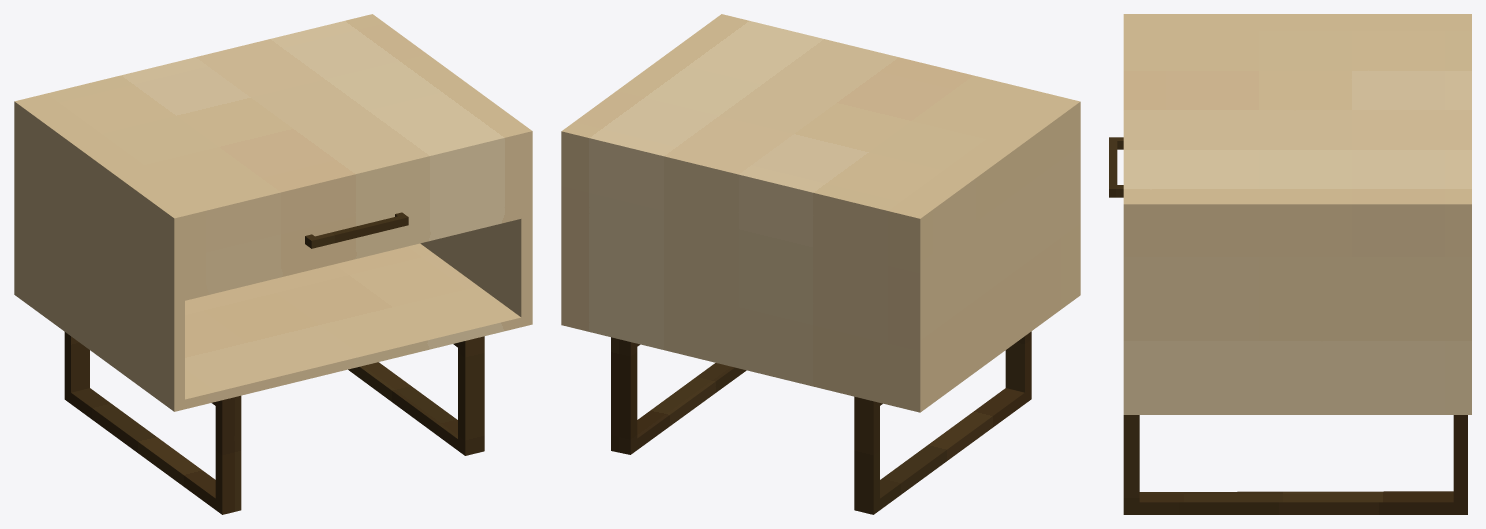
Rendered from Buro.obj.
3 views of the same model, side by side, from view 1: azimuth 30°, elevation 25°; view 2: azimuth 150°, elevation 25°; view 3: azimuth 270°, elevation 25° (orthographic). The views are drawn at different scales.
Visible parts, largest first — view 1: Side_Table_Side_Table; view 2: Side_Table_Side_Table; view 3: Side_Table_Side_Table.
Boxes of the visible parts, x1,y1,x2,y2 form: Side_Table_Side_Table: (14,14,532,514); Side_Table_Side_Table: (561,14,1080,514); Side_Table_Side_Table: (1109,14,1471,514).
Bounding box in the file's own units: 1.17 × 0.9597 × 0.939.
Materials: 2 (2 with a texture image).
